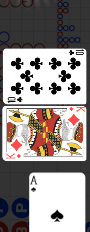10C: (6, 96, 23, 104)
AS: (29, 175, 38, 194)
